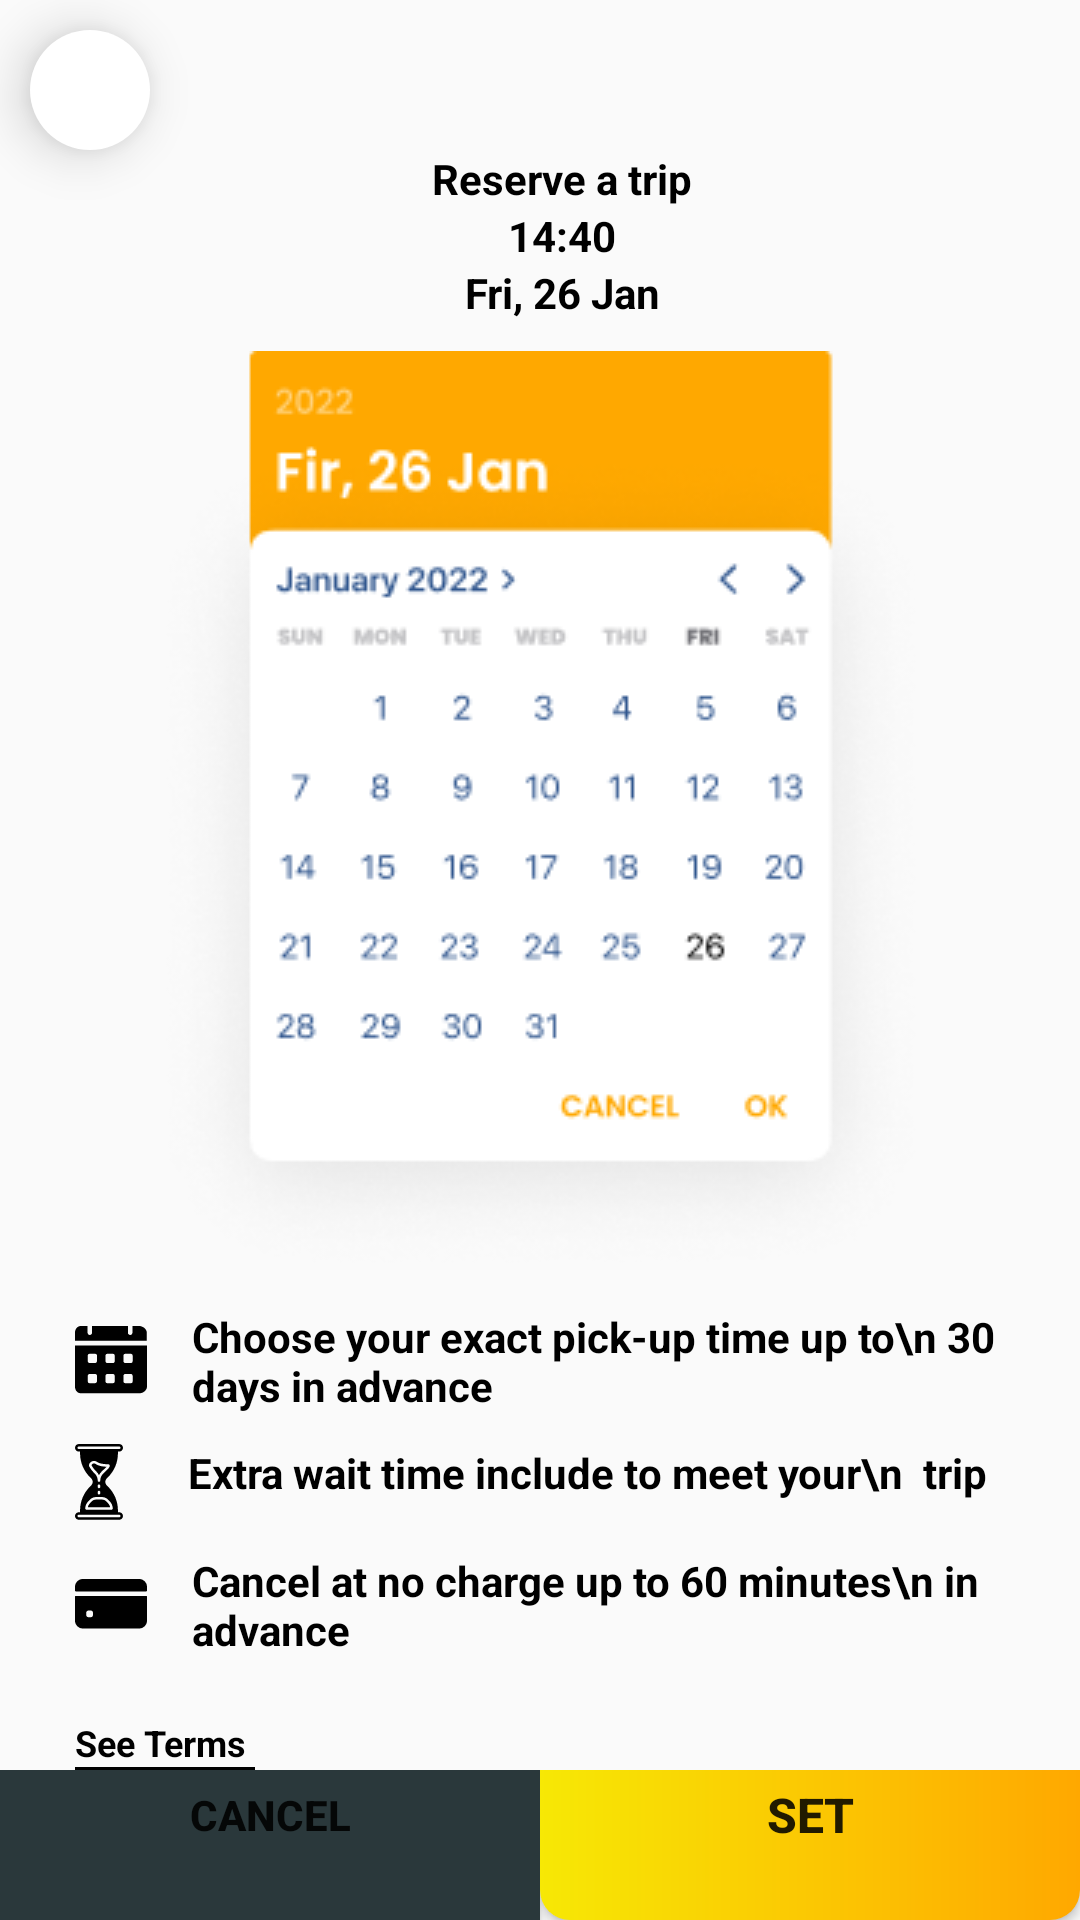

Screen size 1080*1920. Icon name, then its center in pixels as (x,y):
card: (111,1604)
